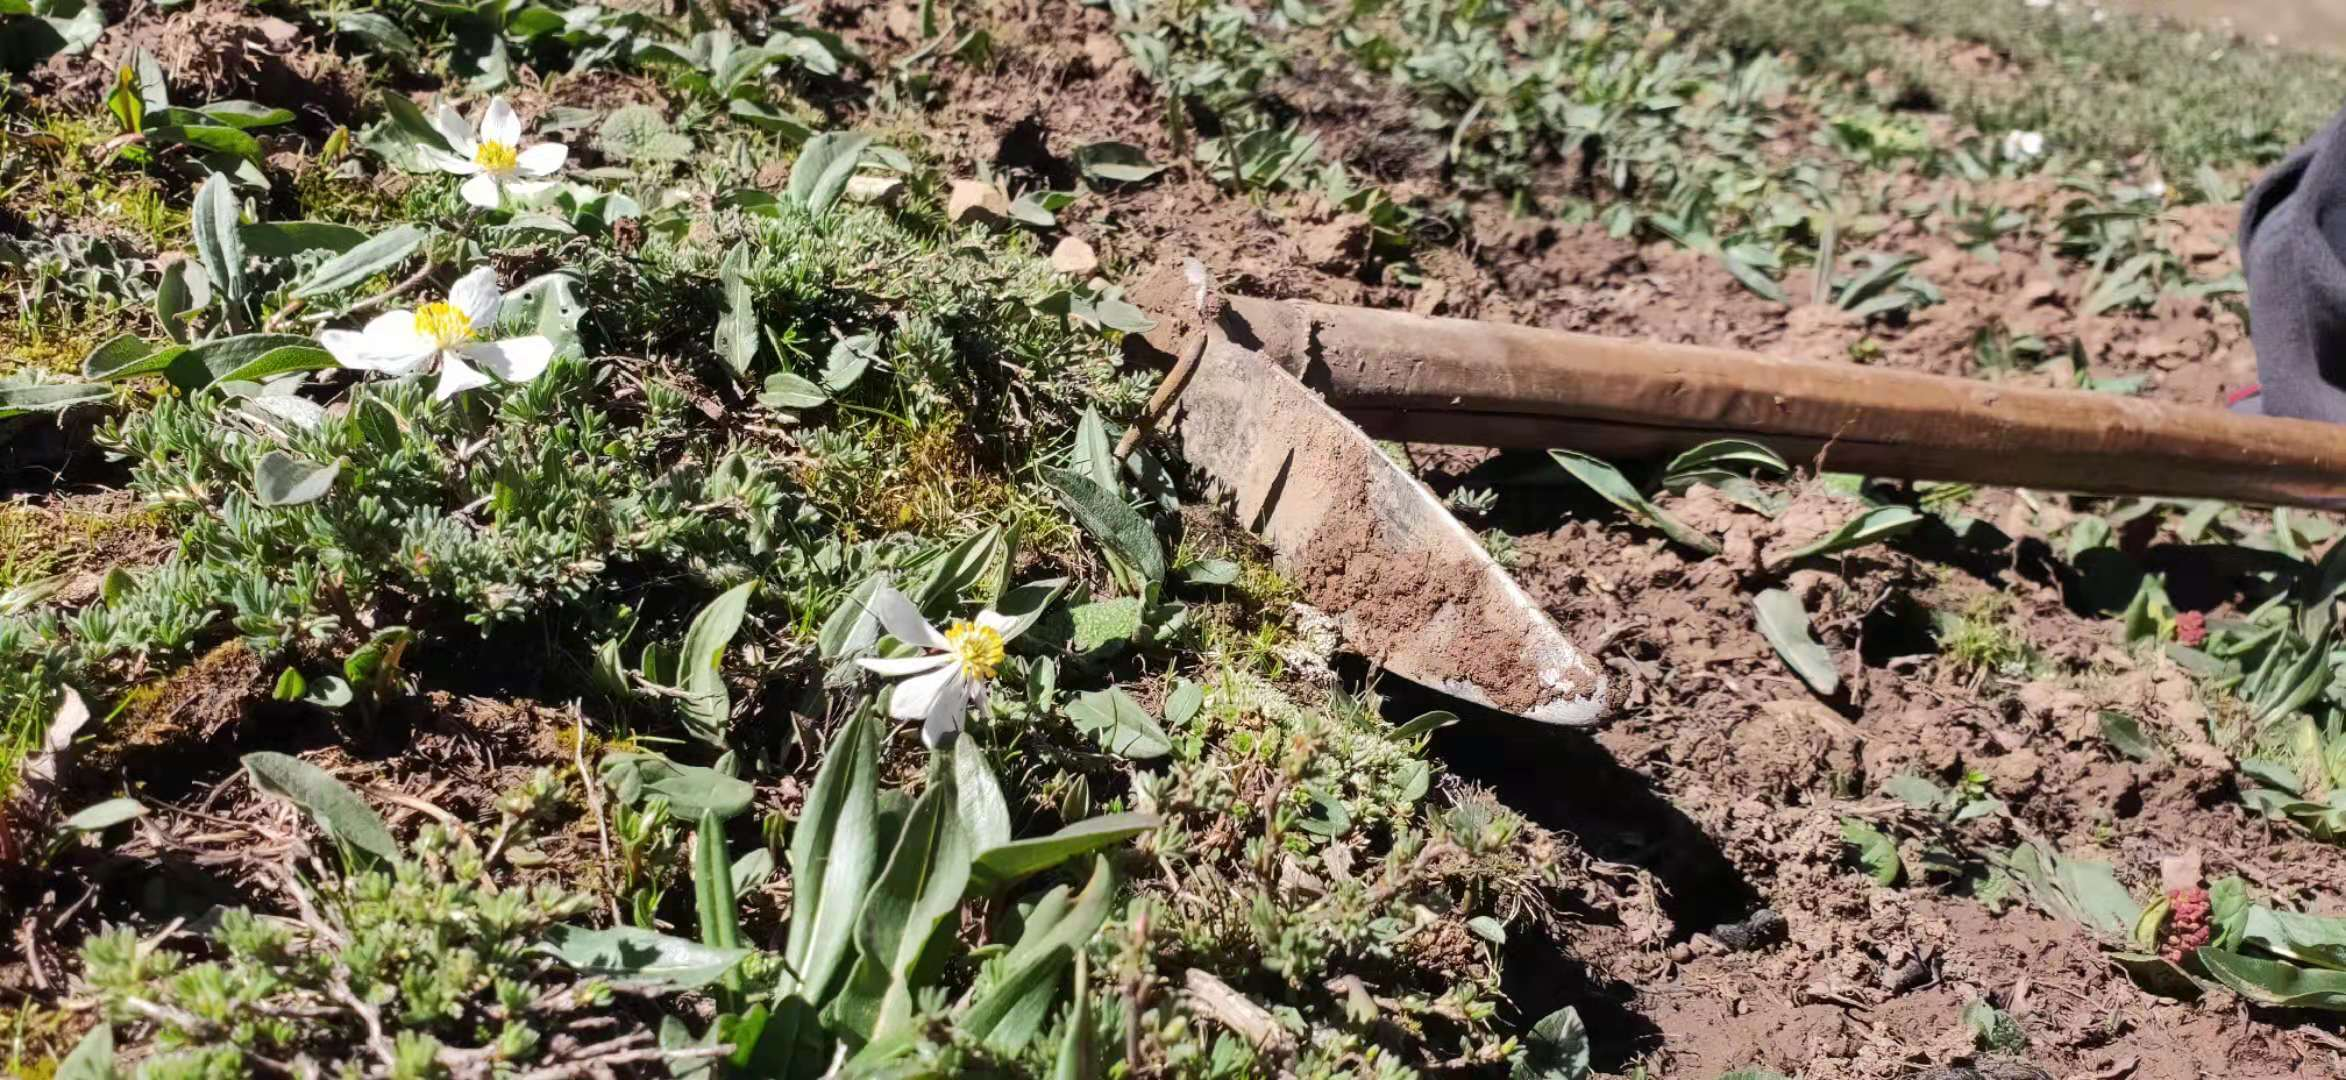cpf: (1109, 329, 1210, 465)
